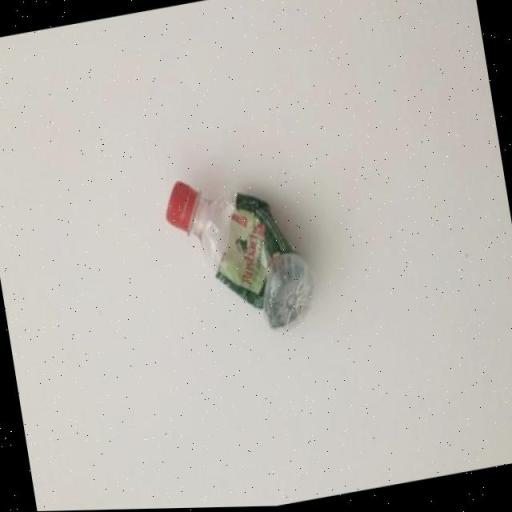plastic: (158, 155, 323, 353)
